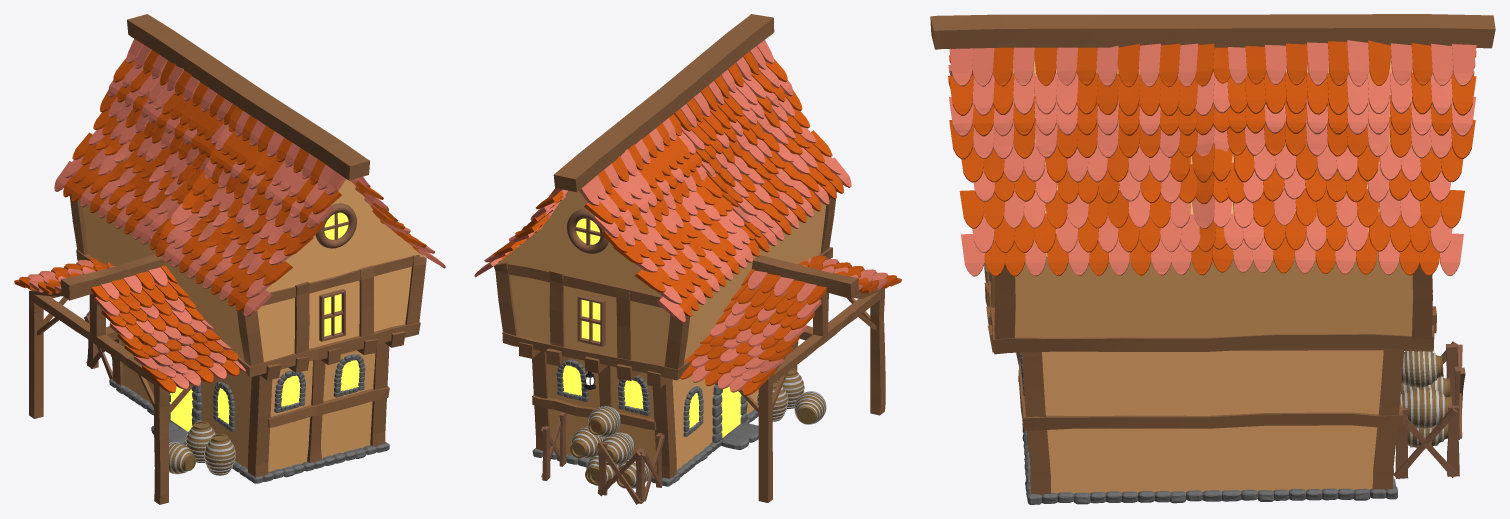
File: tavern.glb
3 views of the same model, side by side, from view 1: azimuth 30°, elevation 25°; view 2: azimuth 150°, elevation 25°; view 3: azimuth 270°, elevation 25° (orthographic). The views are drawn at different scales.
Visible parts, largest first — view 1: Tavern.002; view 2: Tavern.002; view 3: Tavern.002.
Boxes of the visible parts, x1=… form: Tavern.002: x1=14, y1=14, x2=445, y2=504; Tavern.002: x1=474, y1=14, x2=901, y2=504; Tavern.002: x1=930, y1=14, x2=1495, y2=504.
Size of the model in its own units: 9.42 by 10.12 by 11.73.
